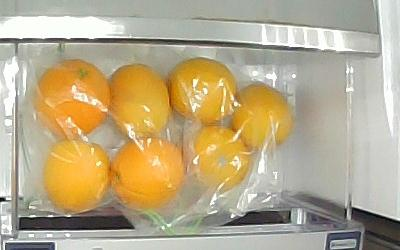orange_vinyl: (36, 60, 111, 138), (111, 137, 185, 209), (43, 141, 111, 214), (108, 65, 170, 137), (171, 57, 236, 122), (231, 84, 292, 149), (188, 126, 248, 191)
